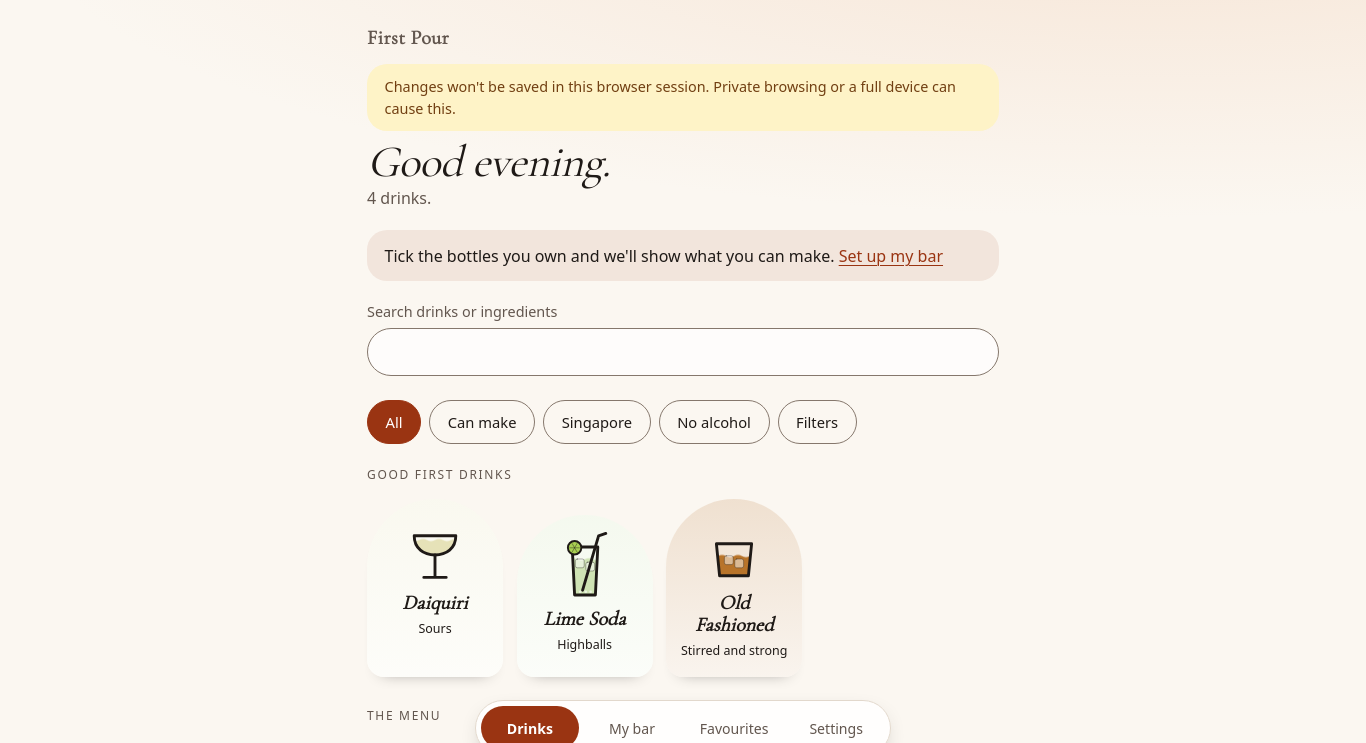
keeps the filters closed until asked for, so the drinks start higher up
Expected: the field labelled "Family" is not shown
Click the button "Filters". click: {"x": 817, "y": 422}
box: [778,400,857,444]
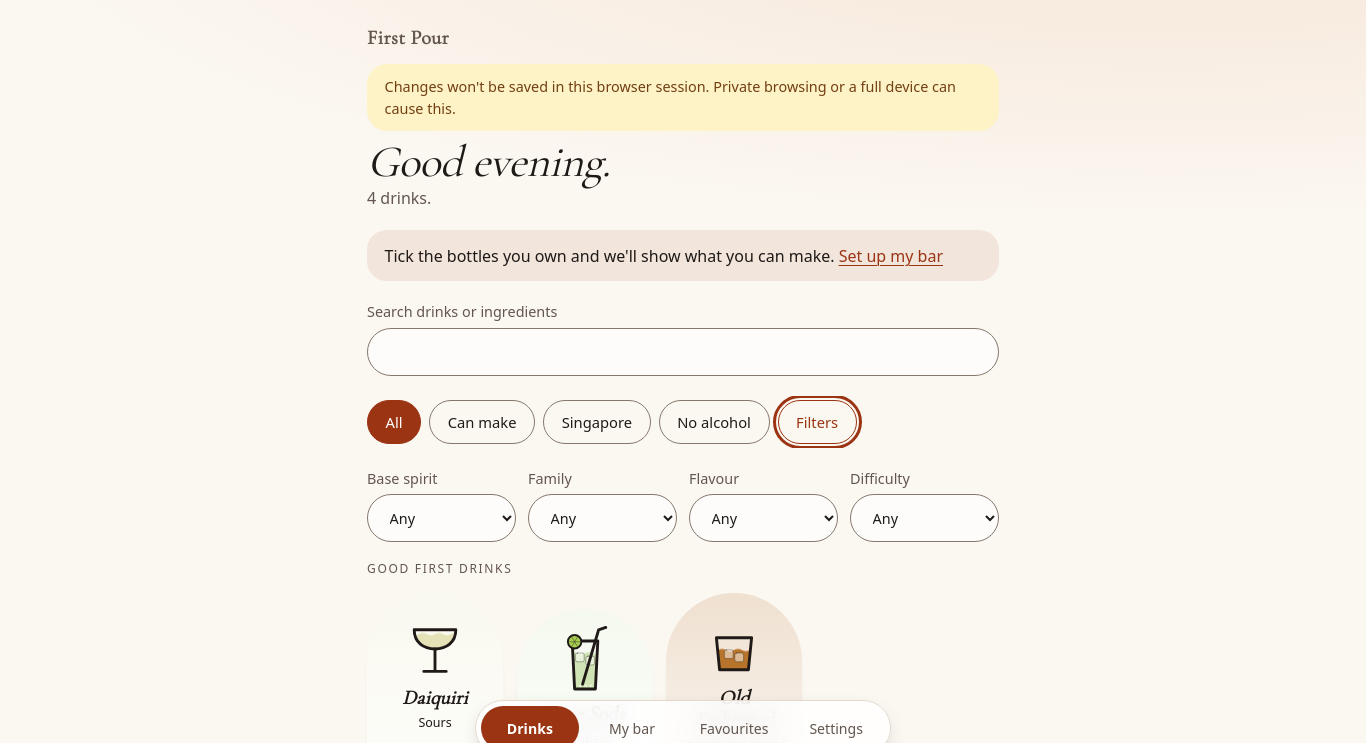
Result: the button "Filters" is expanded at [778,400,857,444]
Result: the dropdown labelled "Family" is shown at [528,494,677,542]
